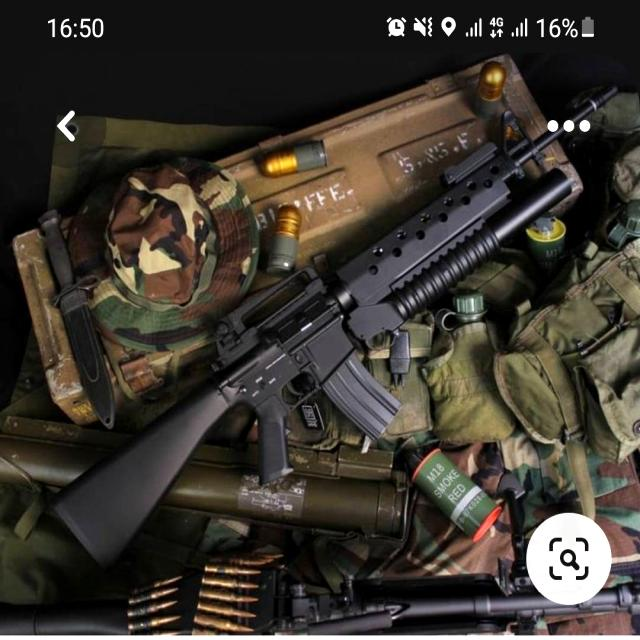m16: (31, 188, 511, 574)
